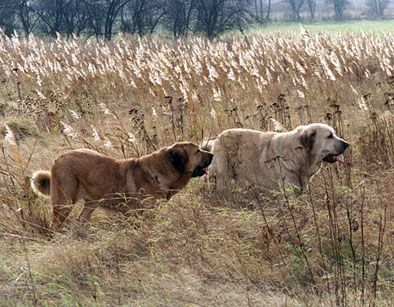mastin_espanol: (29, 140, 213, 229), (199, 123, 350, 189)
